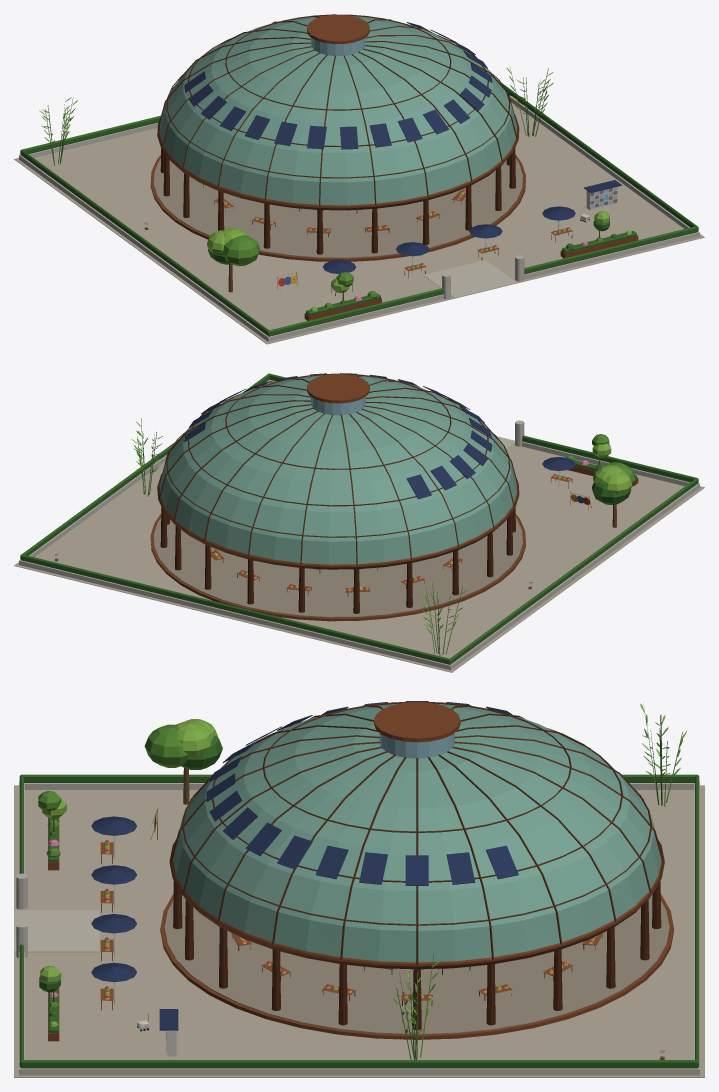
File: market.glb
3 renders of one model, top to bottom at view 1: azimuth 30°, elevation 25°; view 2: azimuth 150°, elevation 25°; view 3: azimuth 270°, elevation 25°, orthographic. The views are drawn at different scales.
Parts seen in each view (by area): view 1: body; view 2: body; view 3: body.
Part boxes in pixels (box(x1,y1,x2,y2)): body: box(14, 14, 704, 344); body: box(14, 373, 704, 672); body: box(14, 701, 704, 1077).
Size of the model in its own units: 47.9 by 16.43 by 47.9.
